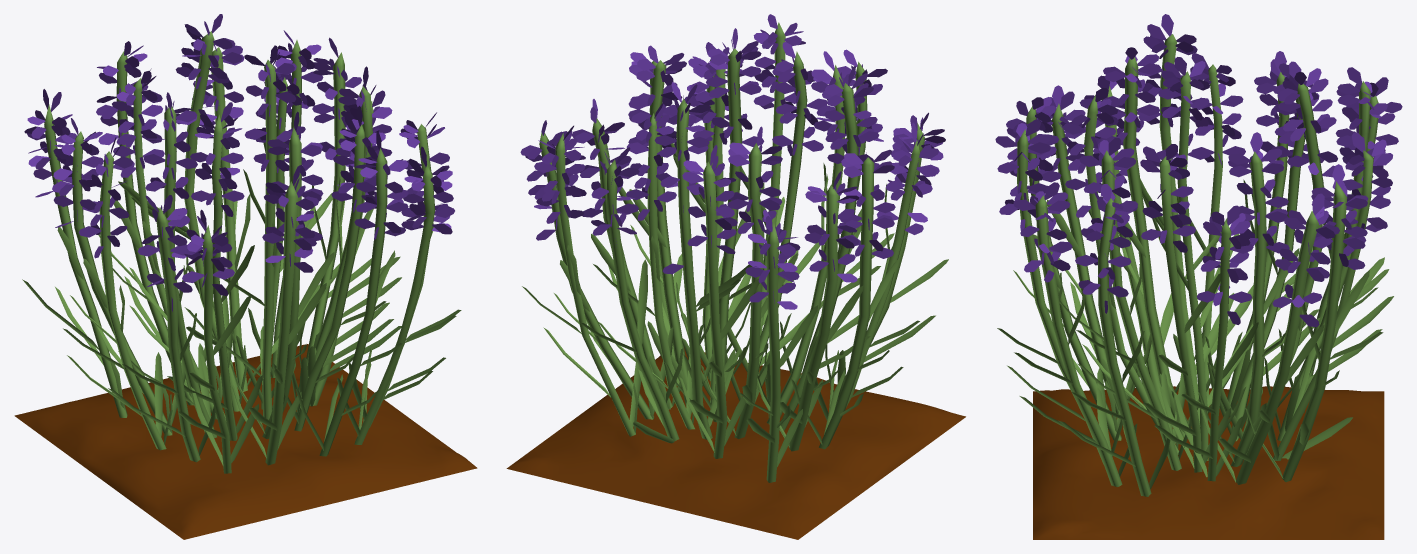
The model's file is lavender-p3-bloom.glb.
The picture shows the model from 3 angles, left to right: view 1: azimuth 30°, elevation 25°; view 2: azimuth 150°, elevation 25°; view 3: azimuth 270°, elevation 25°; orthographic projection. The views are drawn at different scales.
Visible parts, largest first — view 1: 3_nft_bloom; view 2: 3_nft_bloom; view 3: 3_nft_bloom.
Part boxes in pixels (x1=…): 3_nft_bloom: x1=14, y1=14, x2=477, y2=539; 3_nft_bloom: x1=506, y1=14, x2=965, y2=539; 3_nft_bloom: x1=995, y1=14, x2=1402, y2=539.
Bounding box in the file's own units: 0.7955 × 0.9167 × 0.8113.
